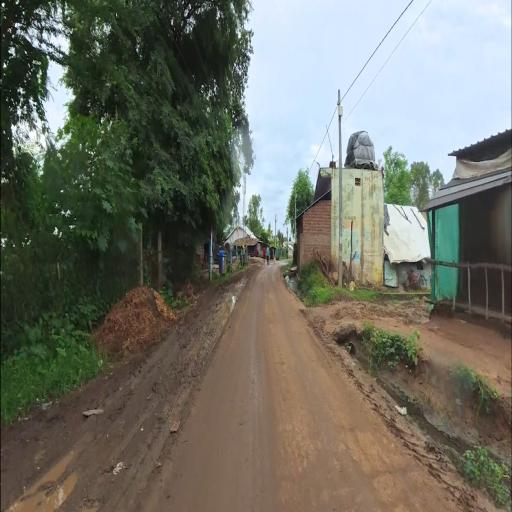drainage_issue: (331, 314, 507, 493)
